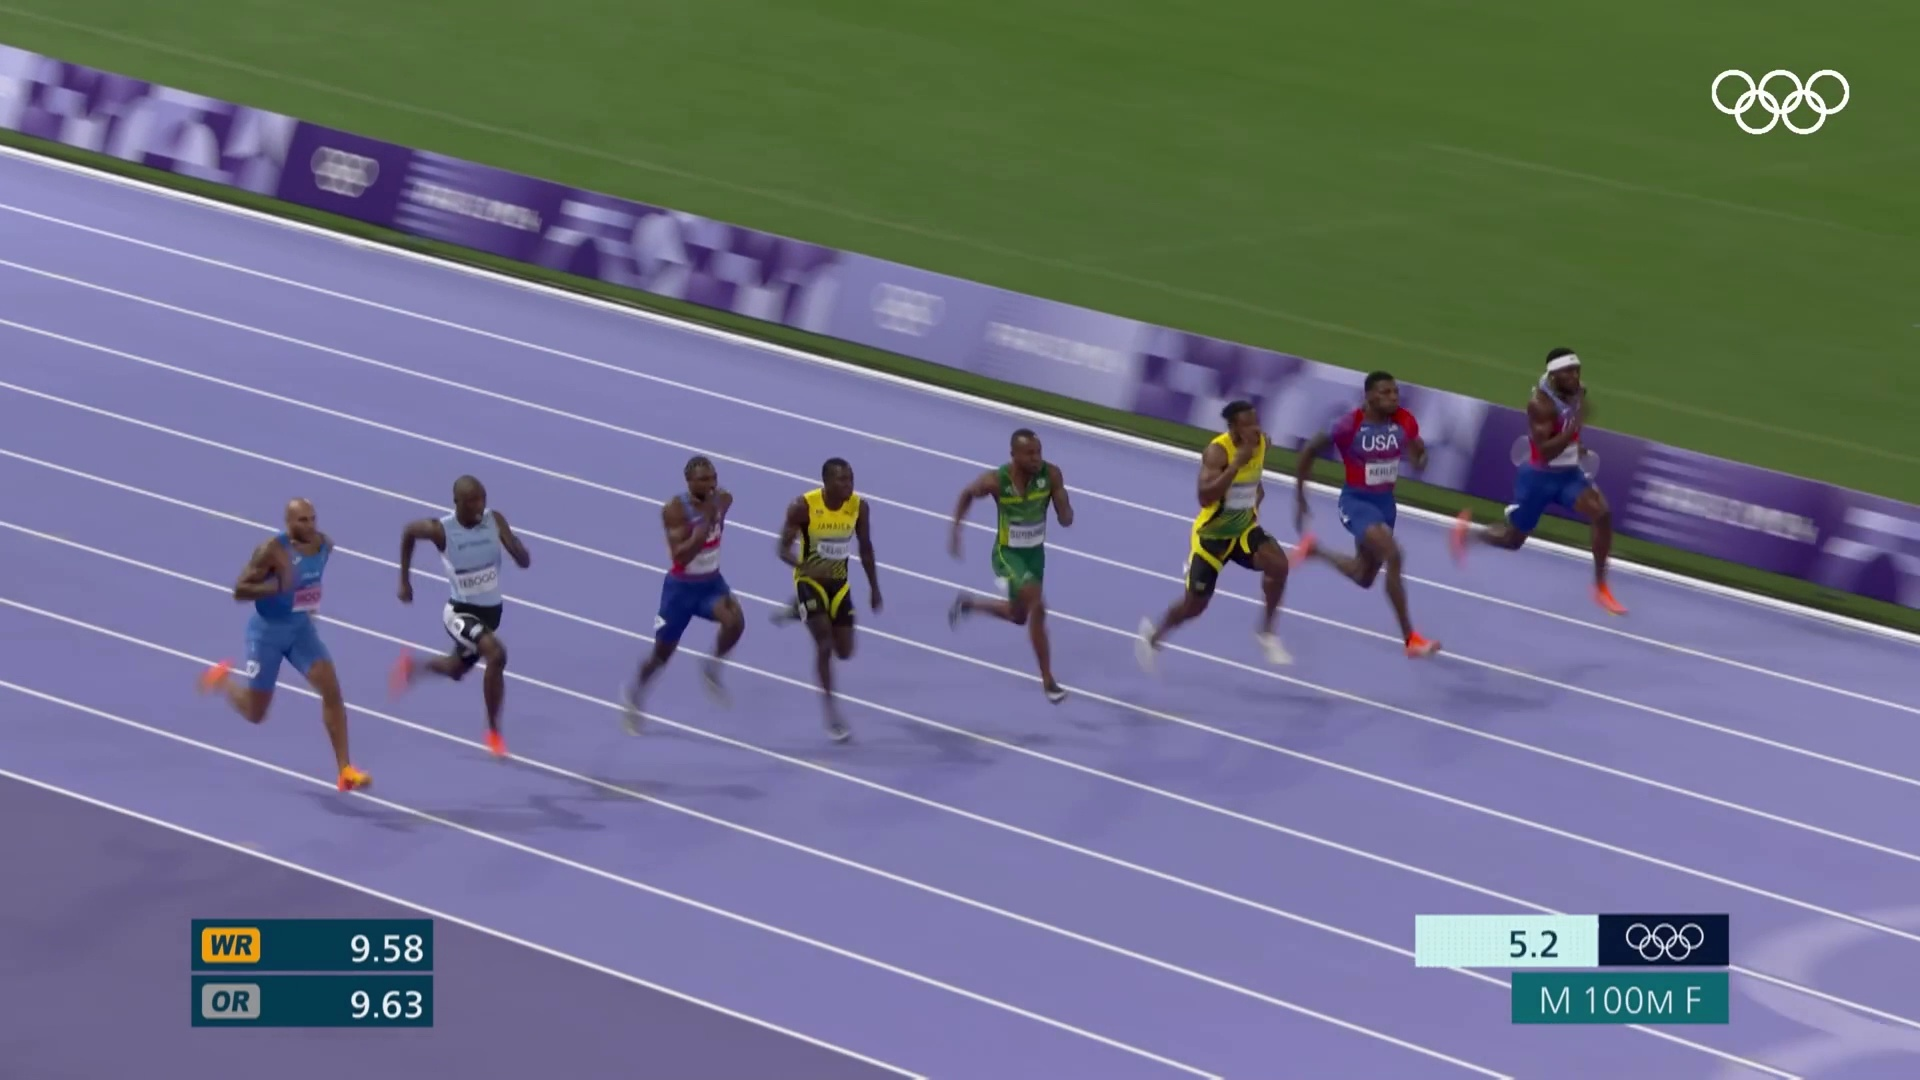roi: (160, 280, 1669, 835)
